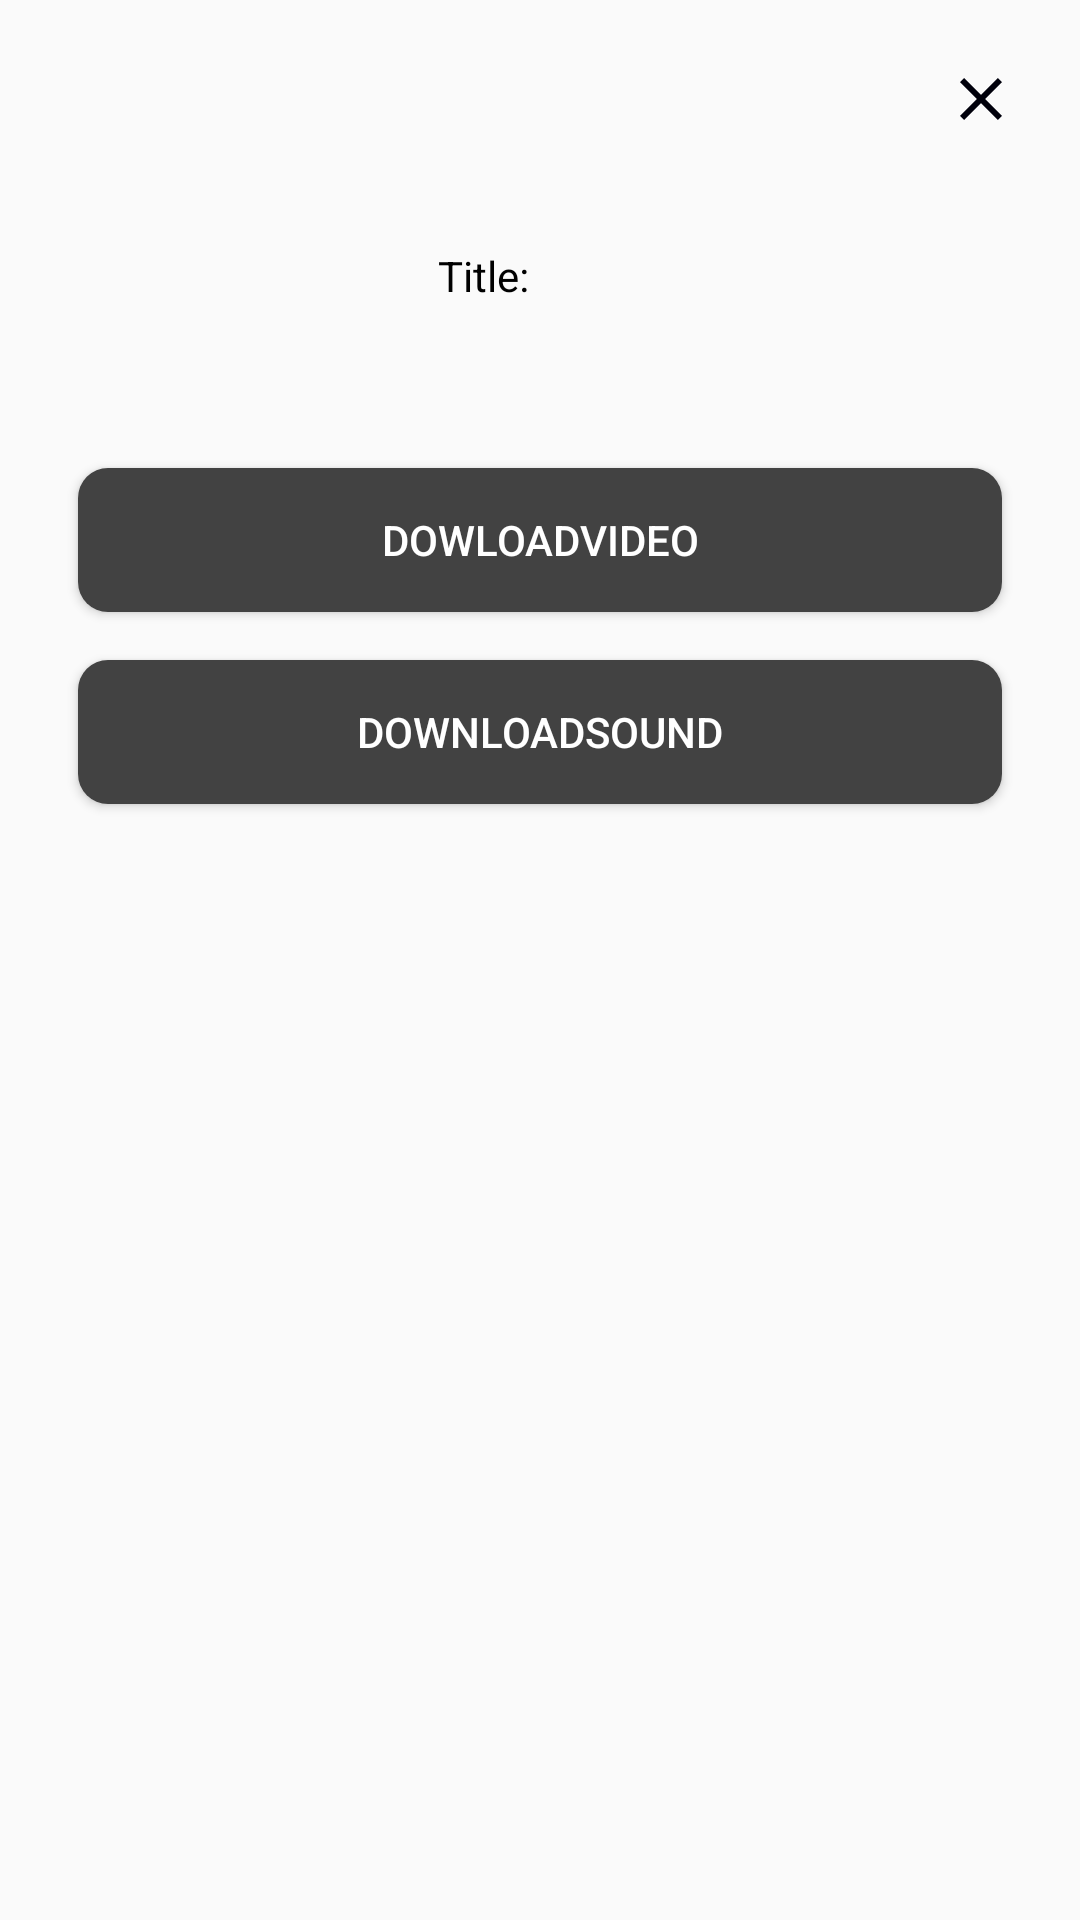

Point at icon controls on the screen. Image size 1080px x 1920px, points as [x,y].
close: [981,99]
